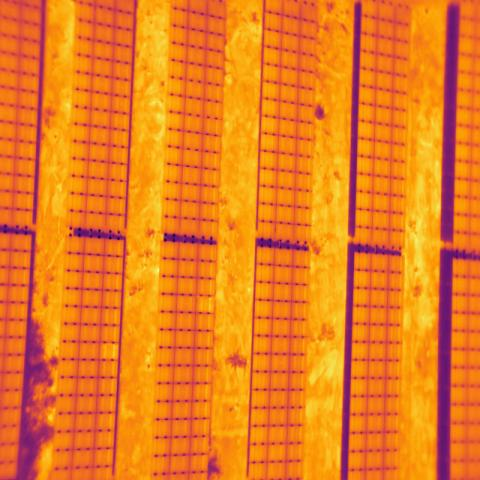fault: (99, 343, 120, 362), (197, 296, 216, 314)
